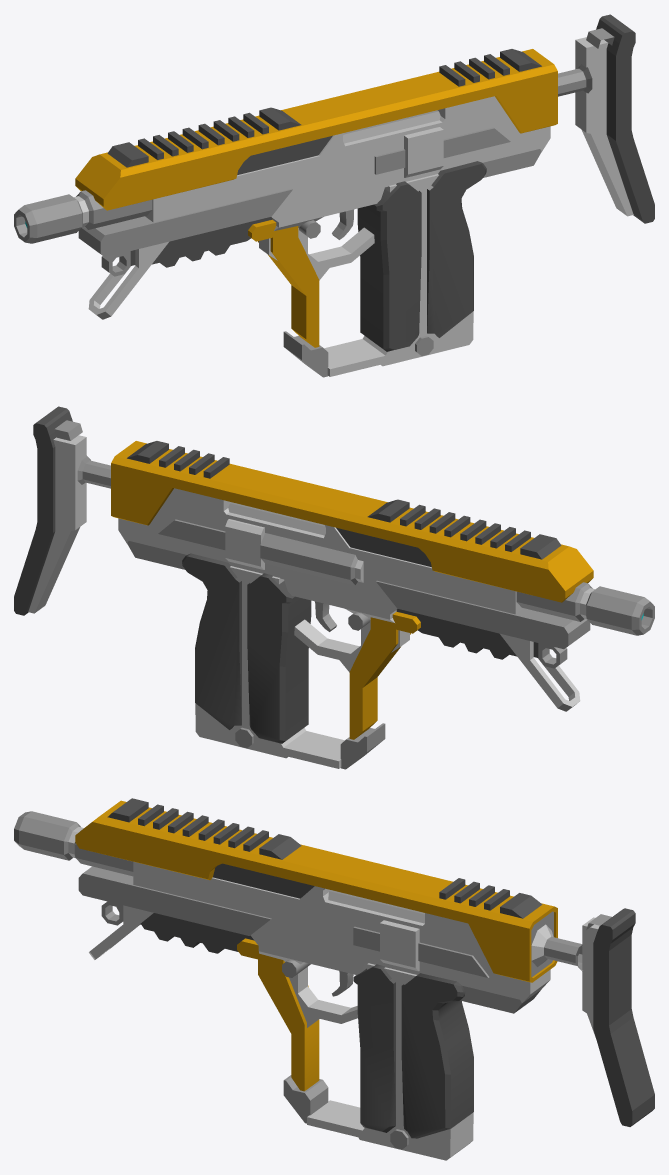
File: SM_SMG02.fbx
3 views of the same model, one above another, from view 1: azimuth 30°, elevation 25°; view 2: azimuth 150°, elevation 25°; view 3: azimuth 330°, elevation 25° (orthographic).
Parts seen in each view (by area): view 1: SM_SMG02; view 2: SM_SMG02; view 3: SM_SMG02.
Boxes of the visible parts, x1,y1,x2,y2 form: SM_SMG02: (14, 14, 654, 377); SM_SMG02: (14, 406, 654, 769); SM_SMG02: (14, 798, 654, 1160).
Bounding box in the file's own units: 42.12 × 17.74 × 3.41.
